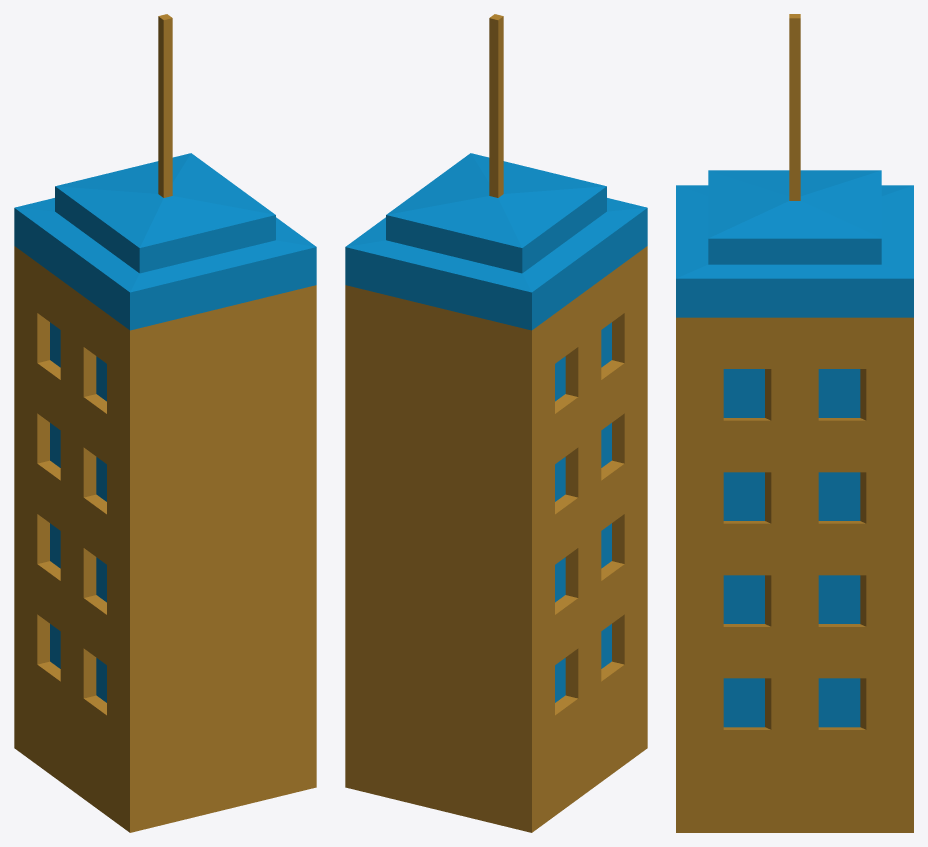
File: Building6.fbx
3 views of the same model, side by side, from view 1: azimuth 30°, elevation 25°; view 2: azimuth 150°, elevation 25°; view 3: azimuth 270°, elevation 25° (orthographic). The views are drawn at different scales.
Visible parts, largest first — view 1: Cube; view 2: Cube; view 3: Cube.
Part boxes in pixels (left/top/right/bottom): Cube: left=14, top=14, right=316, bottom=832; Cube: left=345, top=14, right=647, bottom=832; Cube: left=676, top=14, right=913, bottom=832.
Size of the model in its own units: 200 by 769 by 215.
